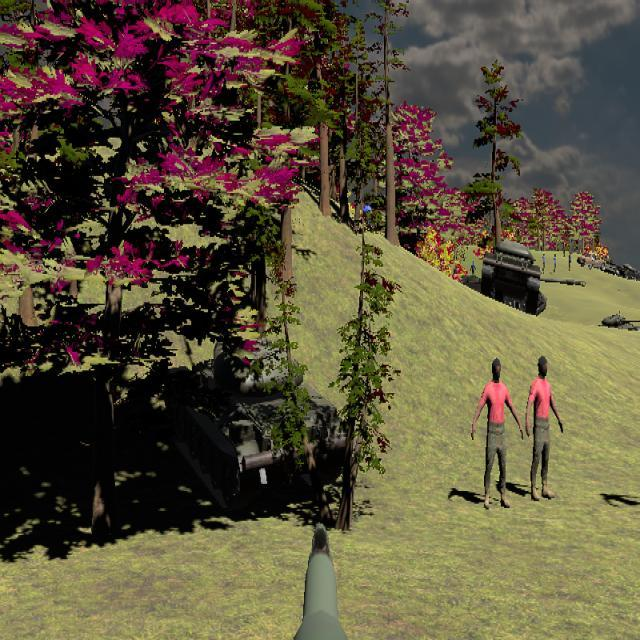Human: (471, 357, 523, 509), (526, 355, 563, 501)
Tank: (165, 328, 351, 513), (481, 239, 541, 315)
car: (576, 252, 607, 272)
